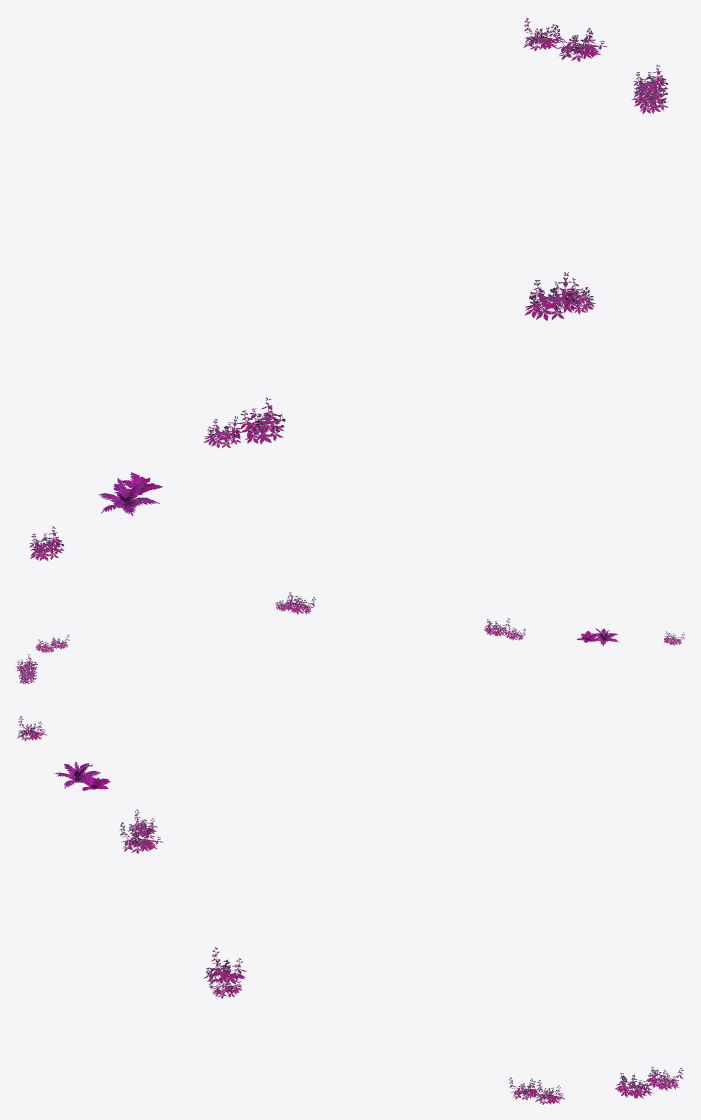
Rendered from zhibei14_1.fbx.
3 views of the same model, one above another, from view 1: azimuth 30°, elevation 25°; view 2: azimuth 150°, elevation 25°; view 3: azimuth 270°, elevation 25° (orthographic). The views are drawn at different scales.
Visible parts, largest first — view 1: zhibei14_1; view 2: zhibei14_1; view 3: zhibei14_1.
Boxes of the visible parts, left/top/right/bottom form: zhibei14_1: left=29, top=17, right=668, bottom=560; zhibei14_1: left=15, top=592, right=684, bottom=683; zhibei14_1: left=17, top=716, right=683, bottom=1104.
Bounding box in the file's own units: 5574 × 227 × 4217.
